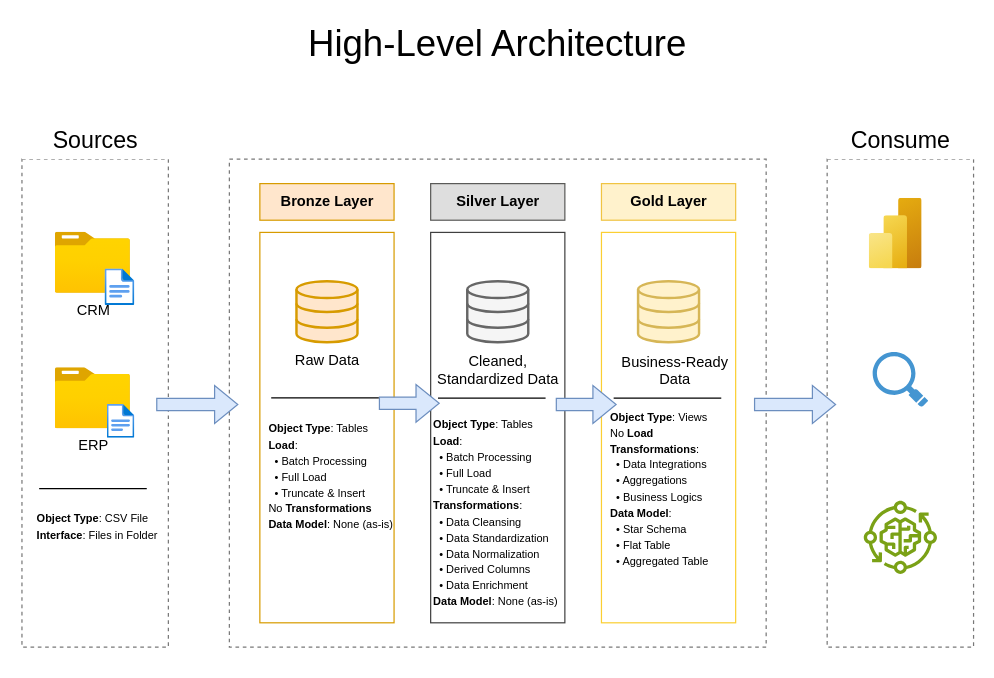
This 994x678 diagram has some shape labels left out. The shapes that lost their labels are listed below. From the top down, each one's centre as x and y in pixels, then its label:
point (497, 140): Data Warehouse
point (895, 233): Visualization
point (900, 378): Ad-Hoc SQL Queries
point (899, 536): Machine Learning
